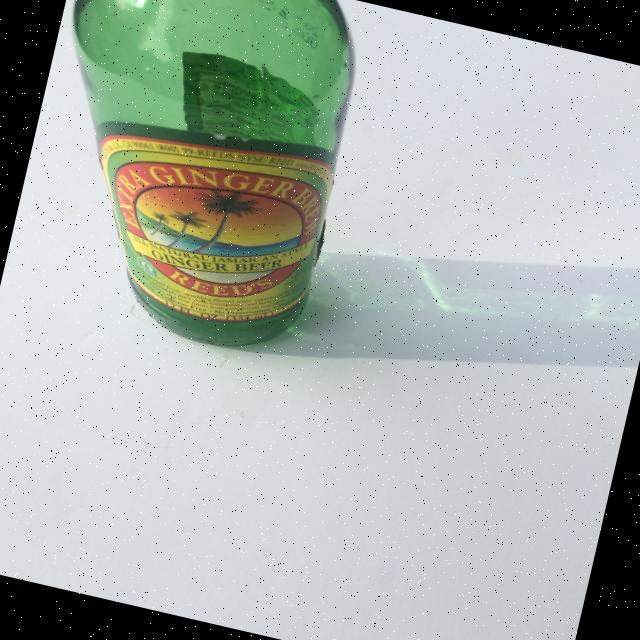glass: (5, 0, 378, 365)
